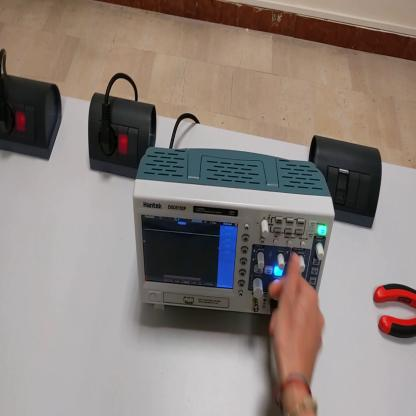hand: (268, 252, 326, 388)
oscilloscope: (133, 148, 335, 318)
pliers: (375, 281, 416, 343)
socket: (87, 88, 157, 183), (2, 73, 63, 165)
